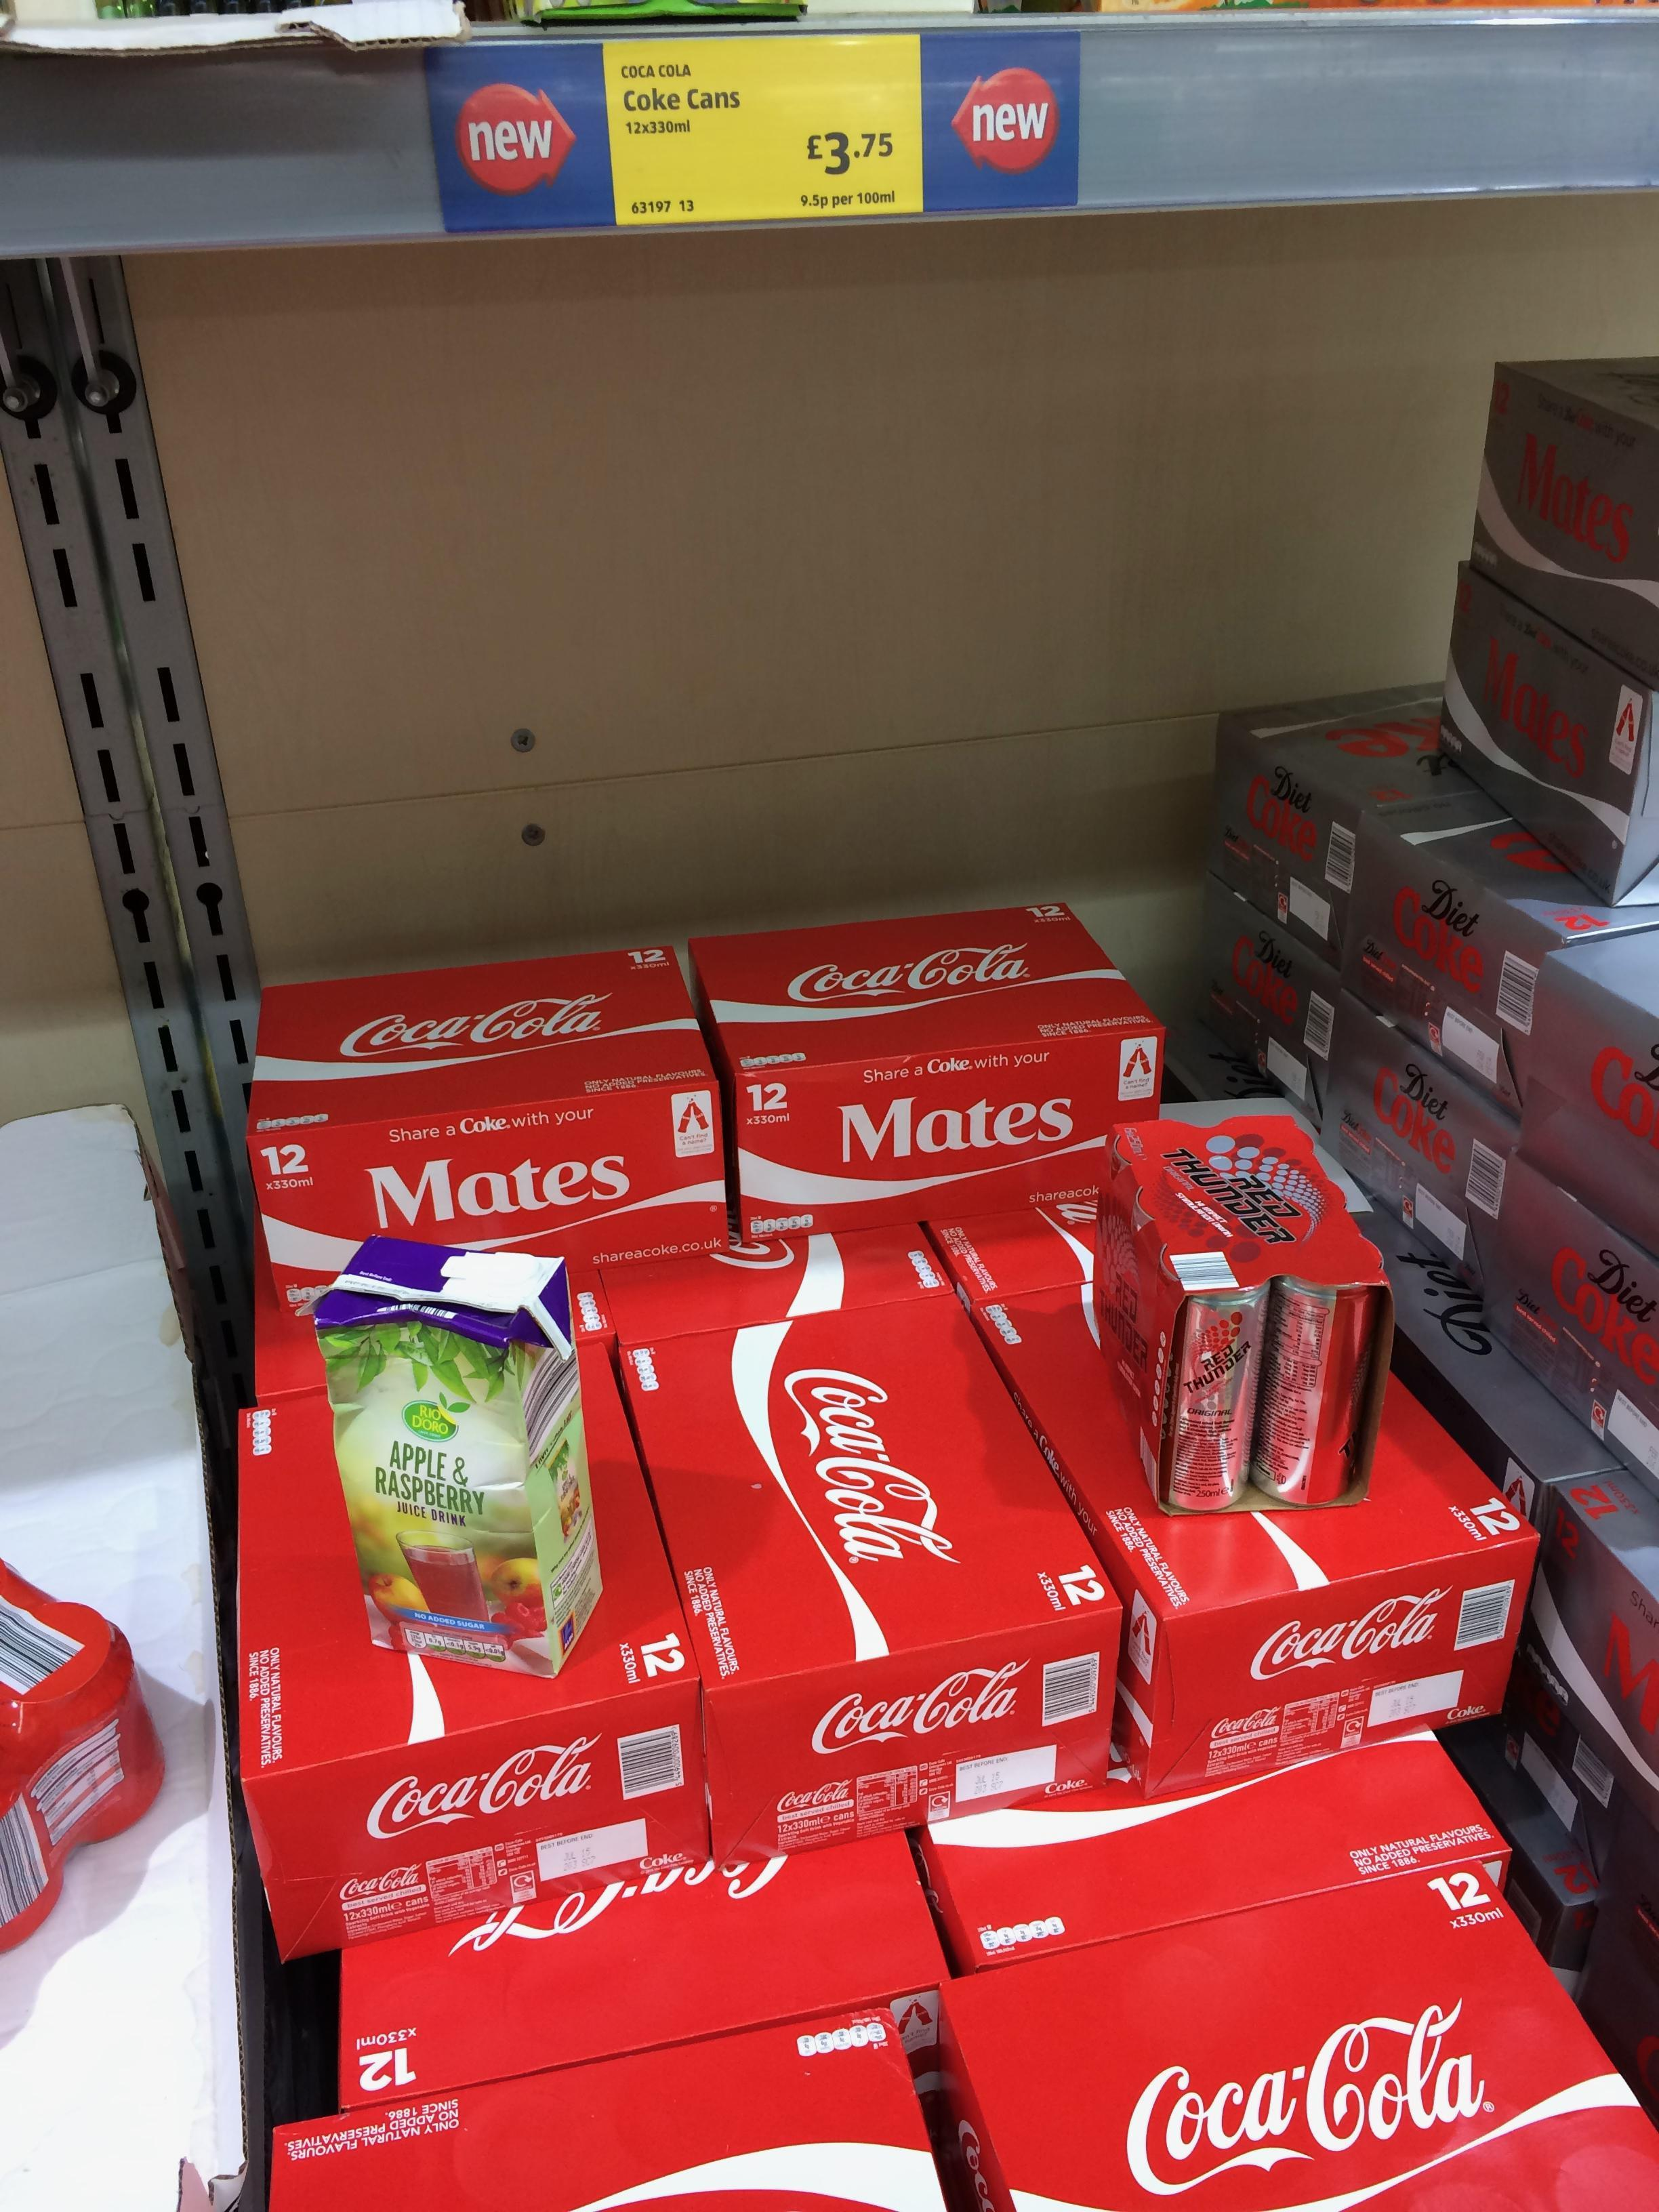coca cola: (239, 1350, 708, 1956), (976, 1291, 1537, 1794), (624, 1298, 1119, 1858), (941, 1871, 1659, 2212), (249, 948, 725, 1329), (340, 1836, 943, 2107), (690, 904, 1162, 1240), (918, 1733, 1507, 1973), (272, 2006, 943, 2212), (1094, 1113, 1391, 1510), (1344, 801, 1659, 1113), (1208, 685, 1488, 965), (1370, 1216, 1617, 1526), (1441, 568, 1659, 904), (0, 1561, 162, 1952), (1471, 359, 1659, 683), (1324, 991, 1520, 1285), (1488, 1151, 1659, 1479), (1528, 1470, 1659, 1827), (1521, 935, 1659, 1249), (1446, 1719, 1600, 1993), (605, 1224, 948, 1346), (1201, 874, 1338, 1127), (1506, 1609, 1633, 1876), (1249, 1277, 1385, 1505), (1155, 1285, 1272, 1510), (1579, 1815, 1659, 2114), (925, 1195, 1098, 1308), (253, 1221, 333, 1406), (1166, 1019, 1283, 1101)
